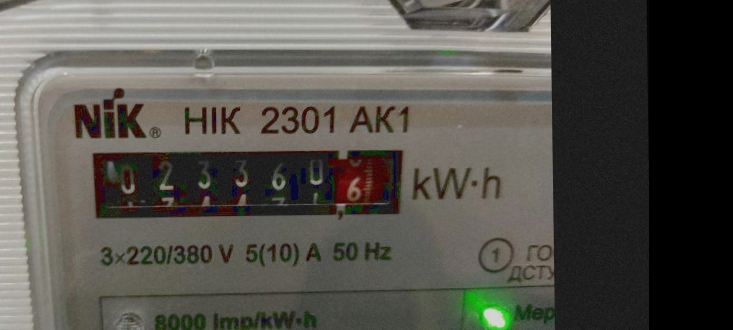0: (116, 161, 137, 194), (307, 155, 324, 186)
2: (154, 158, 177, 192)
3: (192, 157, 213, 189), (231, 156, 250, 187)
6: (267, 158, 287, 190), (342, 172, 363, 201)
screen: (73, 130, 417, 233)
